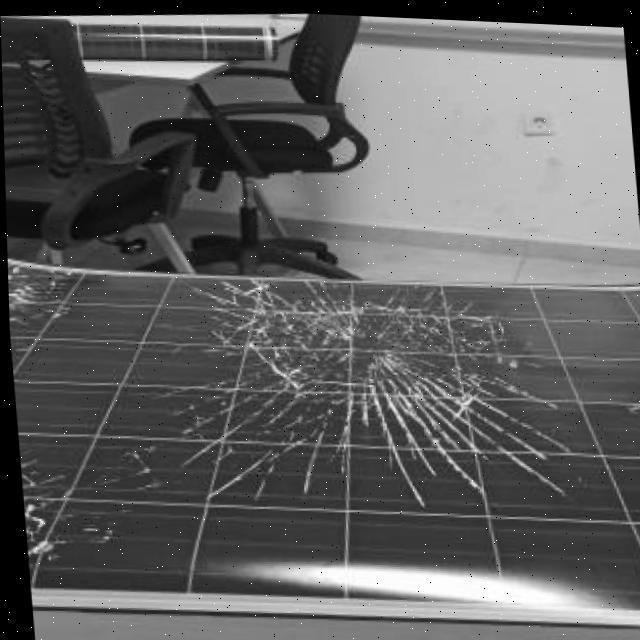Anomaly Solar Panel: (6, 258, 640, 619)
Structural Damage: (130, 270, 615, 521), (17, 452, 112, 583), (6, 267, 98, 338)
